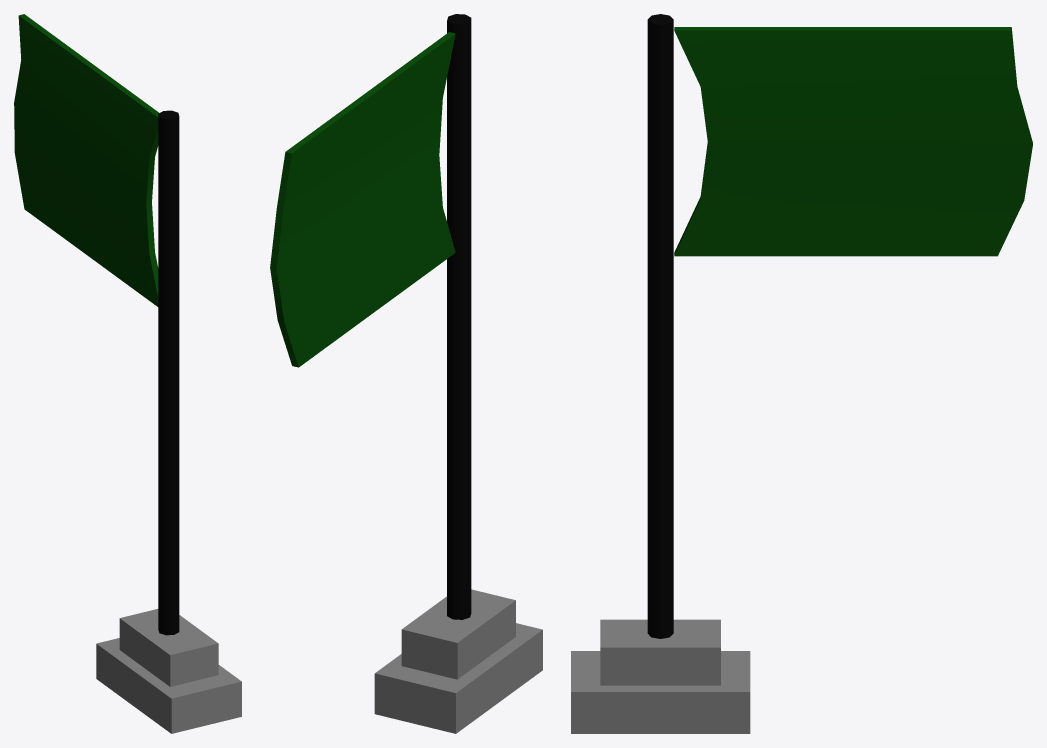
File: flag01.fbx
The picture shows the model from 3 angles, left to right: view 1: azimuth 30°, elevation 25°; view 2: azimuth 150°, elevation 25°; view 3: azimuth 270°, elevation 25°; orthographic projection. The views are drawn at different scales.
Visible parts, largest first — view 1: group23, pPlane1; view 2: group23, pPlane1; view 3: group23, pPlane1.
Boxes of the visible parts, x1,y1,x2,y2 form: group23: (14, 14, 179, 635); pPlane1: (96, 609, 241, 733); group23: (270, 14, 471, 619); pPlane1: (374, 589, 542, 733); group23: (647, 14, 1032, 638); pPlane1: (571, 619, 750, 733).
Size of the model in its own units: 0.8707 by 6.89 by 4.16.
